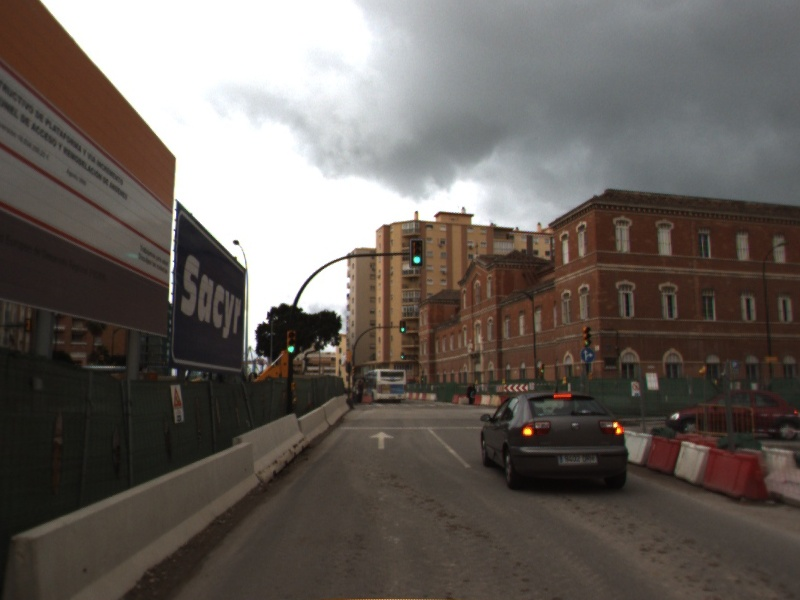STRAIGHT: (367, 430, 396, 451)
